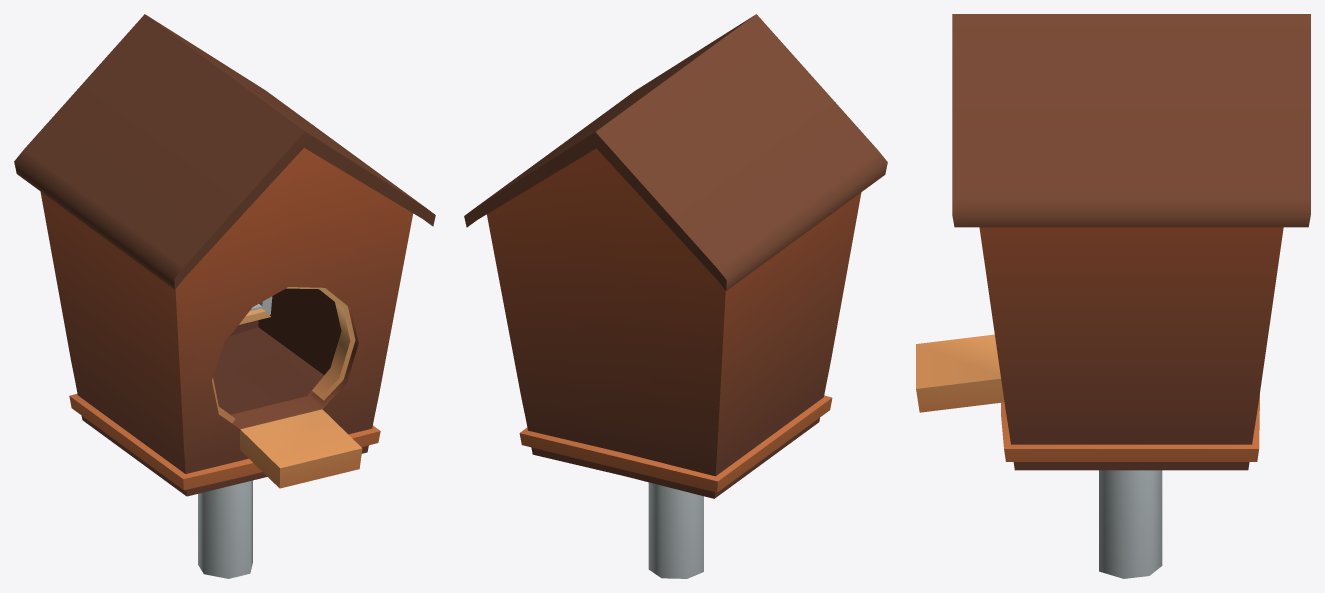
The model's file is BirdHouse.fbx.
3 views of the same model, side by side, from view 1: azimuth 30°, elevation 25°; view 2: azimuth 150°, elevation 25°; view 3: azimuth 270°, elevation 25° (orthographic). The views are drawn at different scales.
Parts seen in each view (by area): view 1: BirdHouse; view 2: BirdHouse; view 3: BirdHouse.
Boxes of the visible parts, x1,y1,x2,y2 form: BirdHouse: [14, 14, 435, 578]; BirdHouse: [464, 14, 887, 578]; BirdHouse: [916, 14, 1310, 578].
Size of the model in its own units: 0.2155 by 0.3883 by 0.252.
